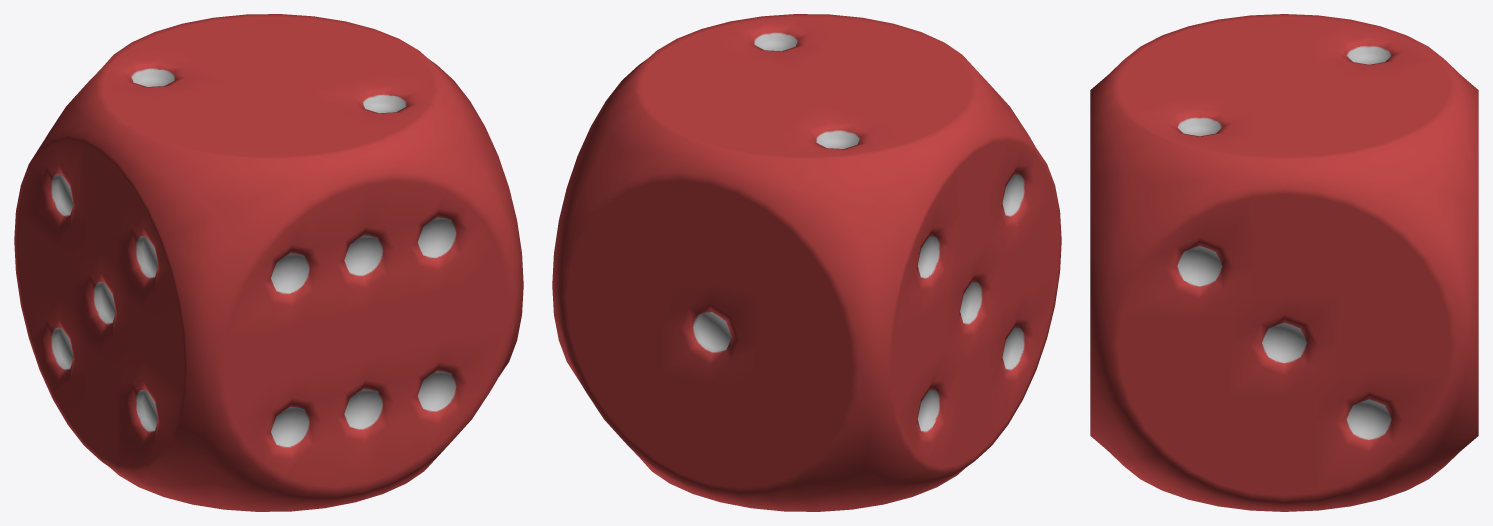
The model's file is diceCollada.dae.
3 views of the same model, side by side, from view 1: azimuth 30°, elevation 25°; view 2: azimuth 150°, elevation 25°; view 3: azimuth 270°, elevation 25° (orthographic).
Parts seen in each view (by area): view 1: Dice; view 2: Dice; view 3: Dice.
Boxes of the visible parts, bbox=[...] form: Dice: bbox=[14, 14, 523, 511]; Dice: bbox=[552, 14, 1061, 511]; Dice: bbox=[1090, 14, 1478, 511].
Size of the model in its own units: 0.01 by 0.01 by 0.01.
Materials: 1 (1 with a texture image).
